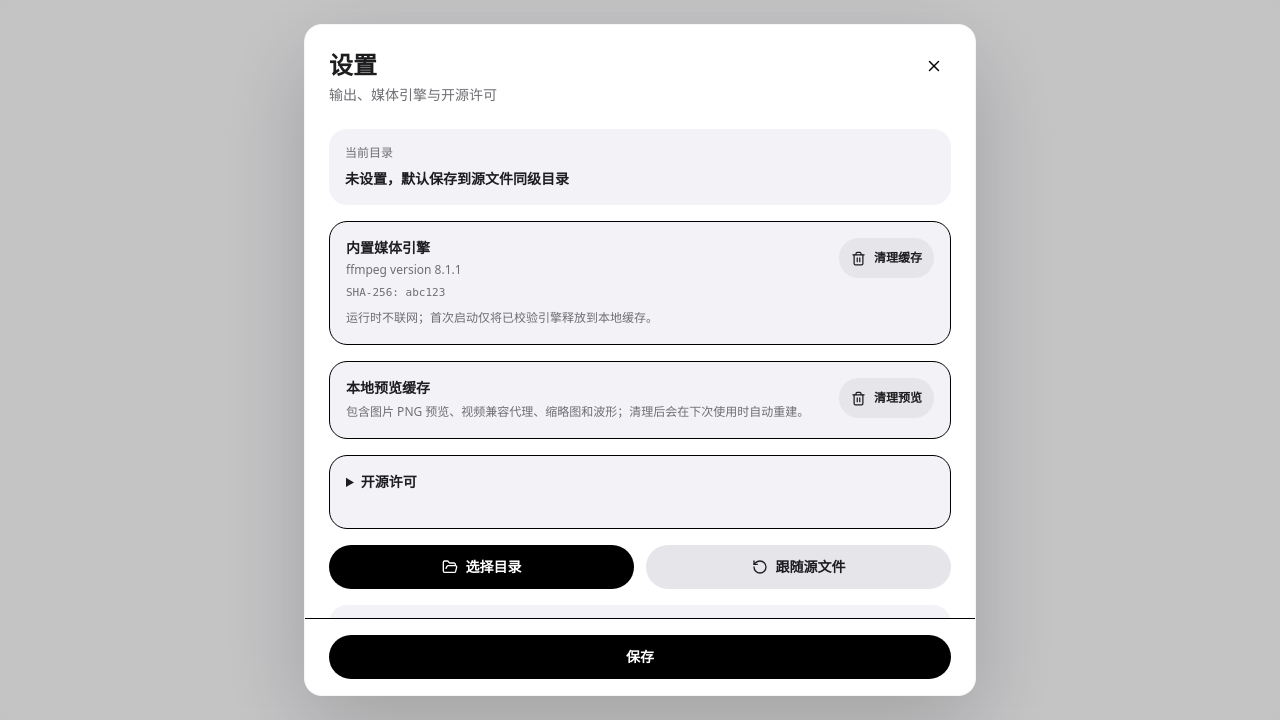
Test case: OutputSettingsPanel media engine and licenses › clears generated media previews from the settings panel
Expected: the text "ffmpeg version 8.1.1" is shown, [346,261,462,278]
What coordinates should you click on to do the following:
click the button with aria-label "清理预览缓存"
I would click on:
 (886, 398)
Its box is [839,378,934,418].
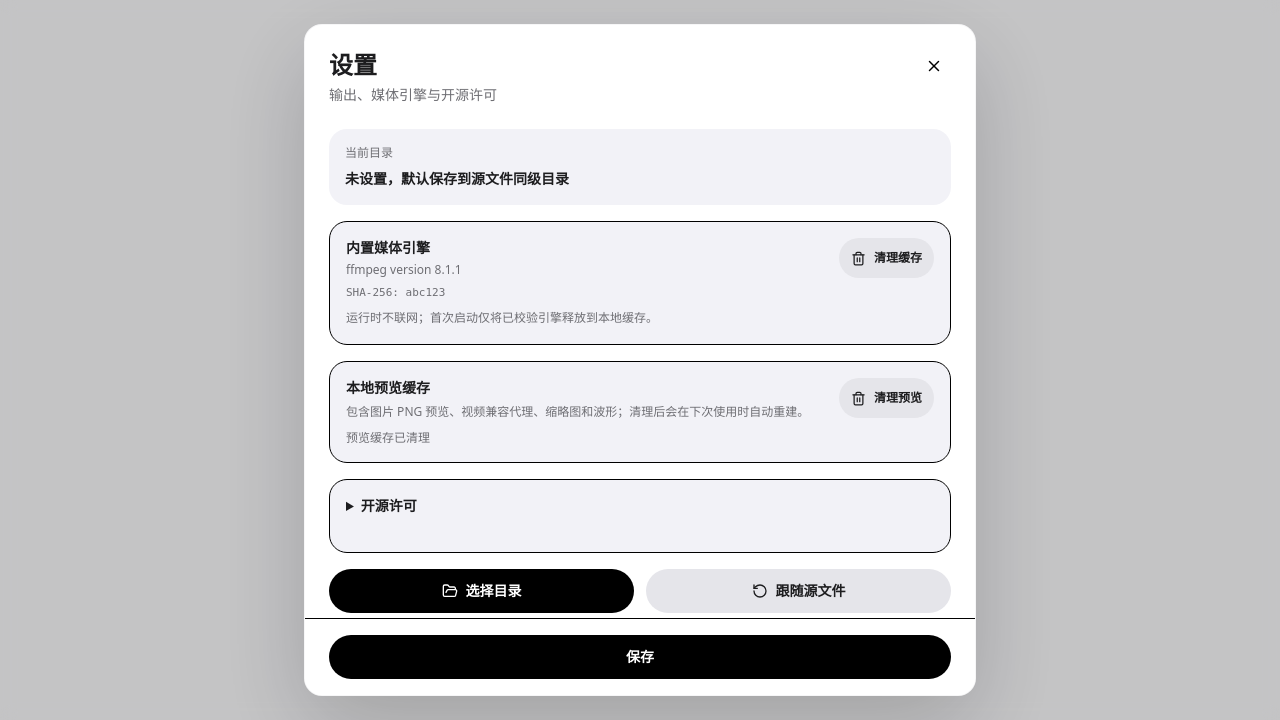
Expected: the text "预览缓存已清理" is shown, [346,429,430,446]
